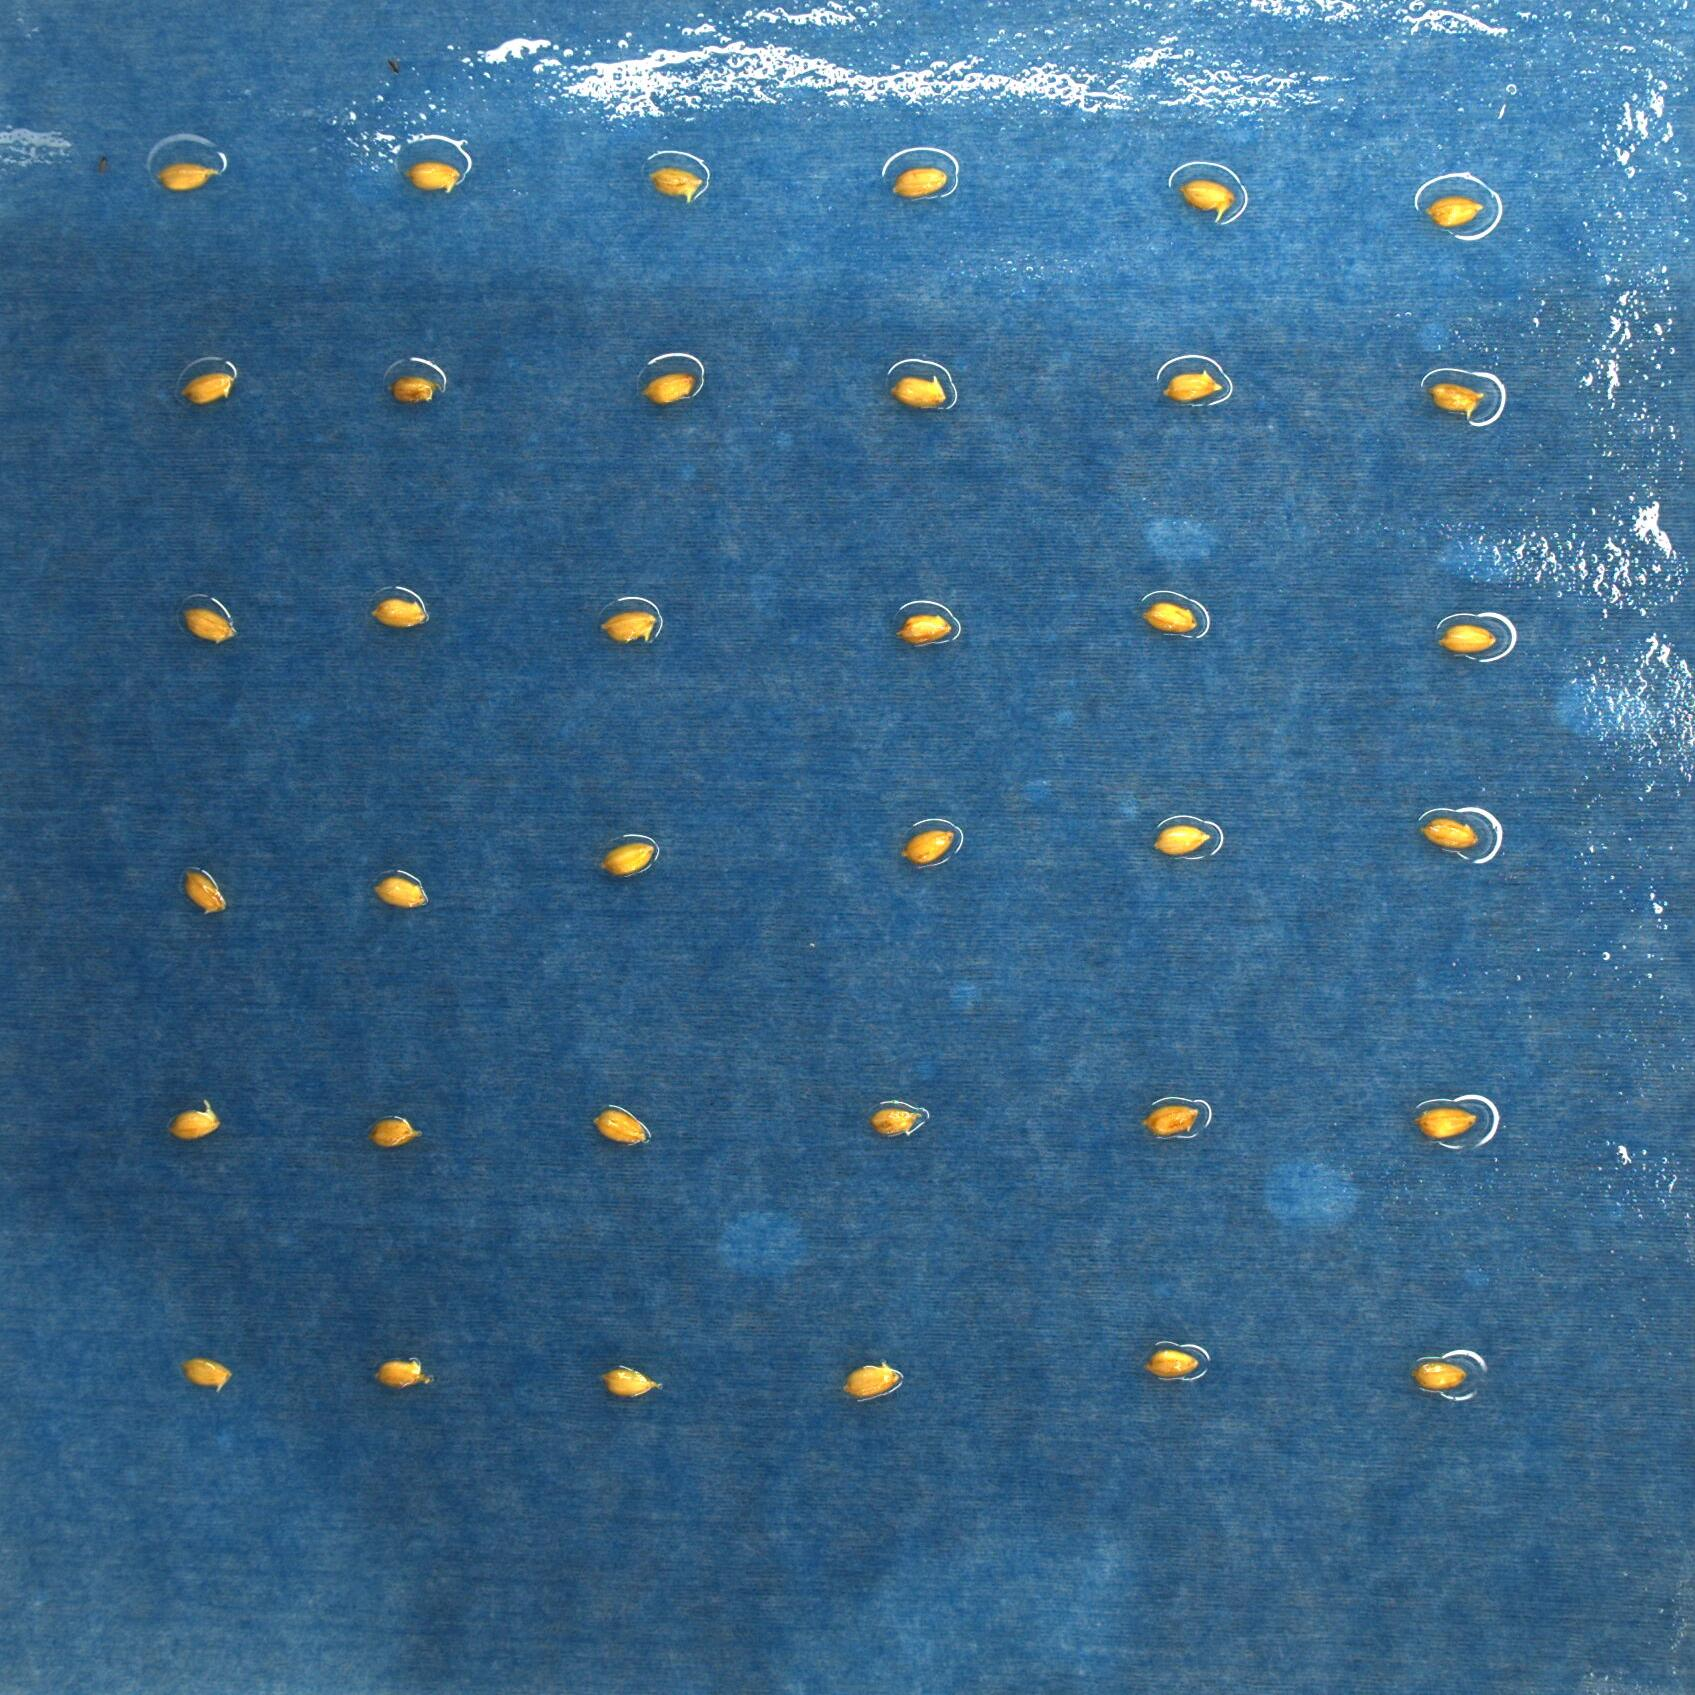not sprout: (1180, 175, 1232, 224), (1437, 619, 1501, 657), (1416, 1107, 1481, 1142), (635, 369, 697, 407), (650, 161, 705, 203), (886, 374, 951, 408), (1406, 1355, 1468, 1391), (841, 1363, 903, 1399), (404, 155, 463, 192), (899, 827, 959, 863), (1428, 380, 1485, 418), (1142, 594, 1200, 632), (598, 837, 657, 872), (183, 865, 227, 913), (1422, 816, 1482, 851), (169, 1101, 222, 1139), (1149, 823, 1211, 855), (1142, 1107, 1201, 1139), (1163, 369, 1223, 400), (368, 1361, 435, 1389), (598, 607, 657, 638), (591, 1107, 647, 1139), (868, 1101, 924, 1133), (185, 602, 233, 640), (179, 1361, 236, 1392), (180, 368, 231, 402), (373, 875, 432, 905), (605, 1361, 661, 1392), (1425, 199, 1485, 227), (900, 612, 955, 643), (157, 161, 224, 186), (369, 594, 425, 624), (368, 1113, 421, 1144), (394, 365, 433, 405), (891, 168, 950, 194), (1147, 1349, 1200, 1378)
